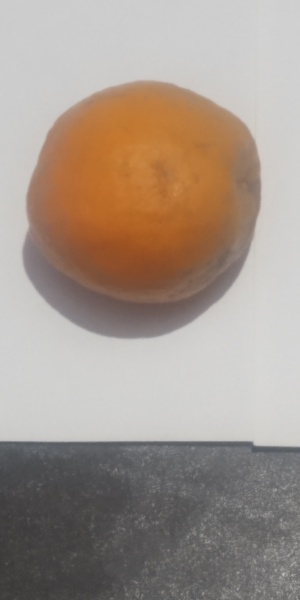BAD: (17, 80, 267, 308)
